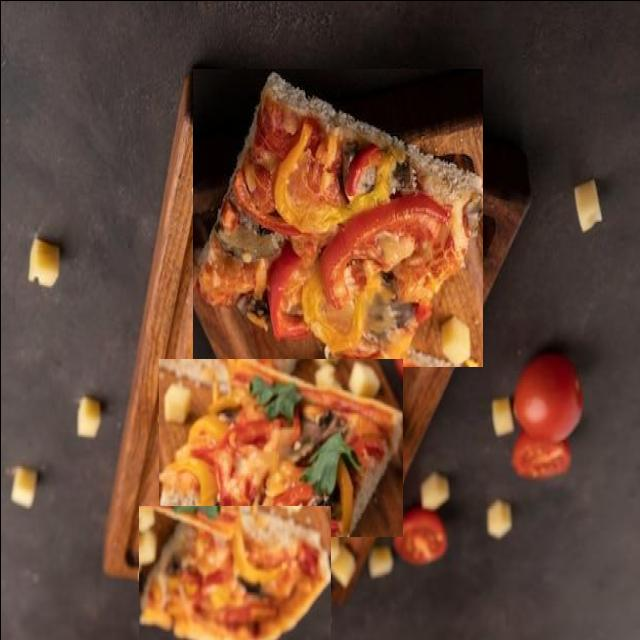pizza: (192, 68, 482, 366), (158, 358, 402, 536), (138, 505, 330, 640)
